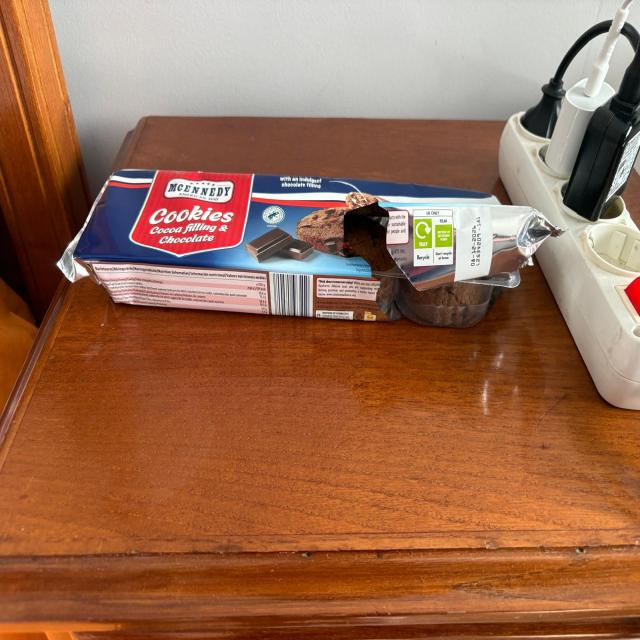damaged_package: (54, 168, 564, 327)
